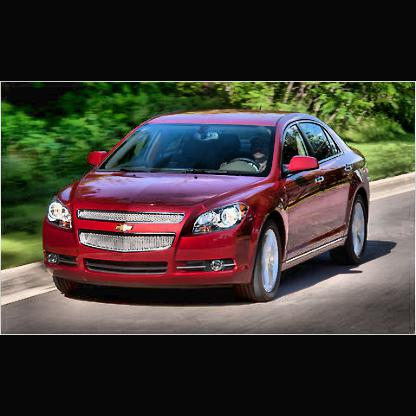Chevrolet Malibu Hybrid Sedan 2010: (42, 110, 373, 304)
